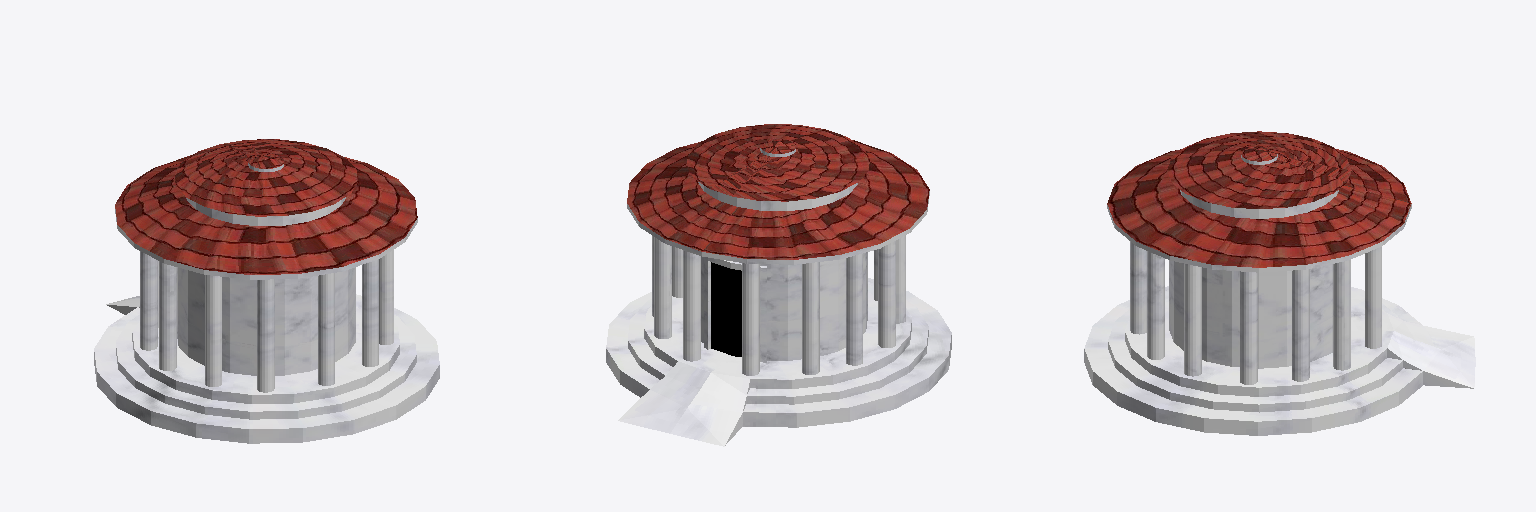
The picture shows the model from 3 angles: view 1: azimuth 30°, elevation 25°; view 2: azimuth 150°, elevation 25°; view 3: azimuth 270°, elevation 25°; orthographic projection.
Parts seen in each view (by area): view 1: pCylinder3; view 2: pCylinder3; view 3: pCylinder3.
Part boxes in pixels (x1,y1,x2,y2): pCylinder3: (94, 139, 439, 443); pCylinder3: (606, 124, 951, 446); pCylinder3: (1084, 131, 1475, 435).
Bounding box in the file's own units: 30.45 × 20.62 × 34.3.
3 materials, 2 textured.